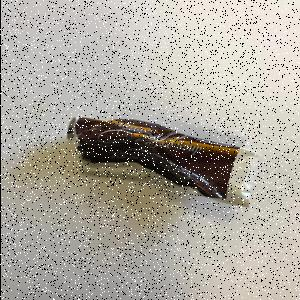Trash: (67, 116, 261, 210)
